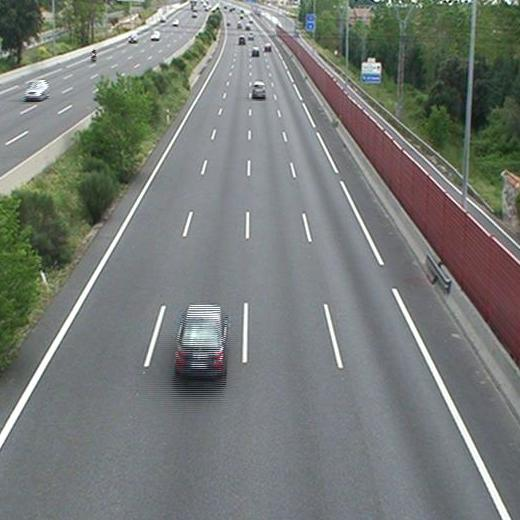car: (176, 303, 224, 375), (252, 82, 267, 99), (250, 48, 259, 56)
